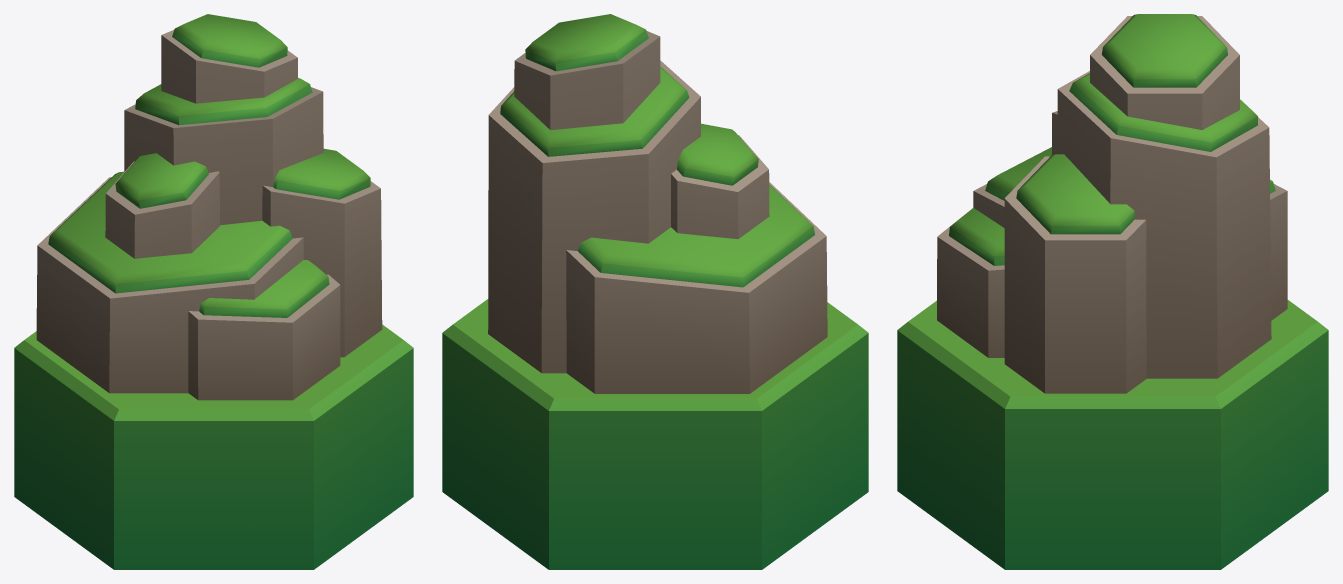
The model's file is hex_mountain_b.glb.
3 renders of one model, left to right at view 1: azimuth 30°, elevation 25°; view 2: azimuth 150°, elevation 25°; view 3: azimuth 270°, elevation 25°, orthographic. The views are drawn at different scales.
Parts seen in each view (by area): view 1: hex_mountain_b; view 2: hex_mountain_b; view 3: hex_mountain_b.
Boxes of the visible parts, box(x1,y1,x2,y2) form: hex_mountain_b: box(14, 14, 413, 569); hex_mountain_b: box(442, 14, 868, 569); hex_mountain_b: box(897, 14, 1328, 569).
Size of the model in its own units: 1 by 1.42 by 1.15.
1 material, 1 textured.
